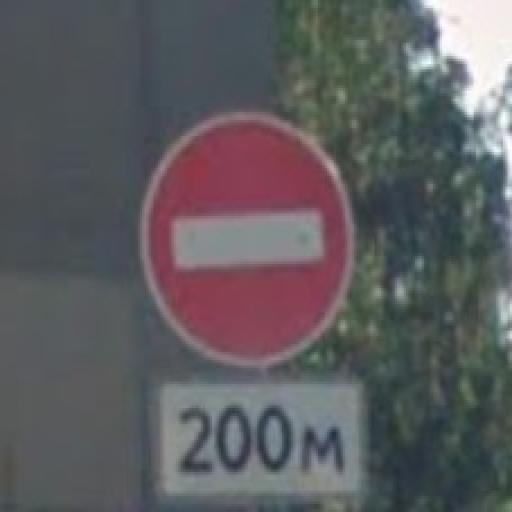traffic_sign: (139, 110, 358, 369)
